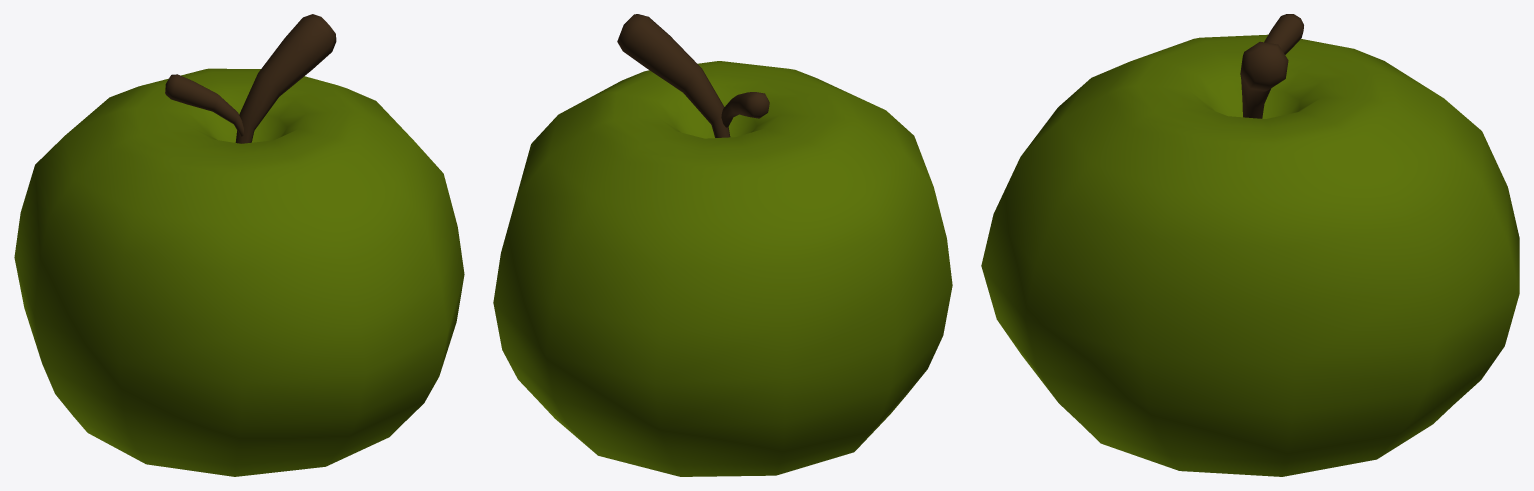
The model's file is Apple_Green.fbx.
3 renders of one model, left to right at view 1: azimuth 30°, elevation 25°; view 2: azimuth 150°, elevation 25°; view 3: azimuth 270°, elevation 25°, orthographic. The views are drawn at different scales.
Visible parts, largest first — view 1: Apple Green; view 2: Apple Green; view 3: Apple Green.
Part boxes in pixels (bbox=[...]): Apple Green: bbox=[14, 14, 464, 476]; Apple Green: bbox=[493, 14, 952, 476]; Apple Green: bbox=[981, 14, 1519, 476].
Size of the model in its own units: 95.93 by 96.58 by 109.
